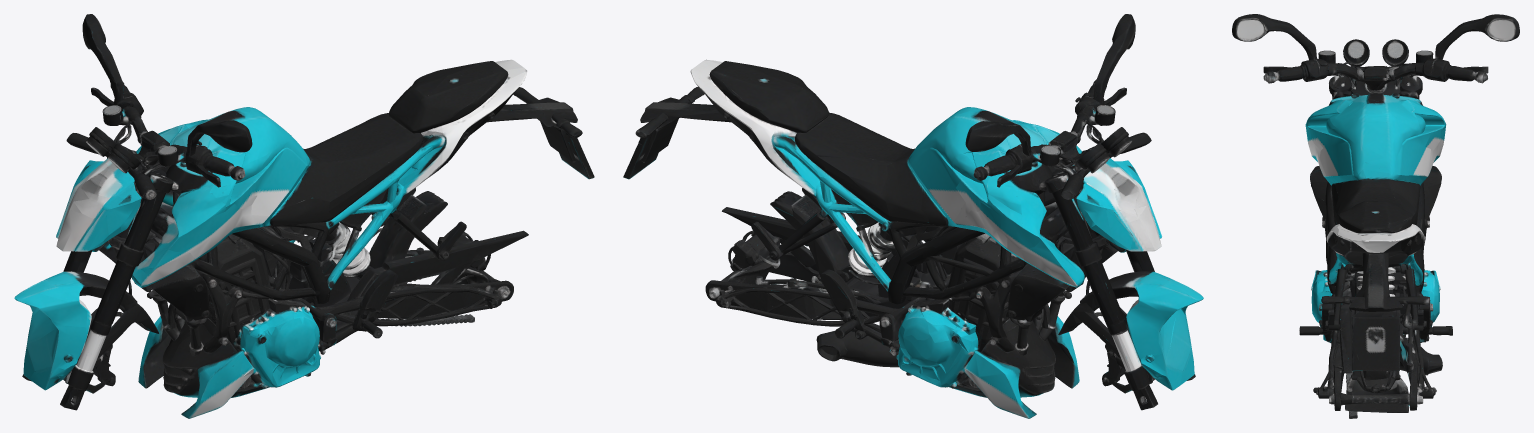
File: bike.glb
3 views of the same model, side by side, from view 1: azimuth 30°, elevation 25°; view 2: azimuth 150°, elevation 25°; view 3: azimuth 270°, elevation 25° (orthographic). The views are drawn at different scales.
Visible parts, largest first — view 1: Mesh_0; view 2: Mesh_0; view 3: Mesh_0.
Part boxes in pixels (left/top/right/bottom): Mesh_0: left=14, top=14, right=594, bottom=418; Mesh_0: left=623, top=14, right=1203, bottom=418; Mesh_0: left=1232, top=14, right=1519, bottom=418.
Bounding box in the file's own units: 1.97 × 1.1 × 0.983.
1 material, 1 textured.
